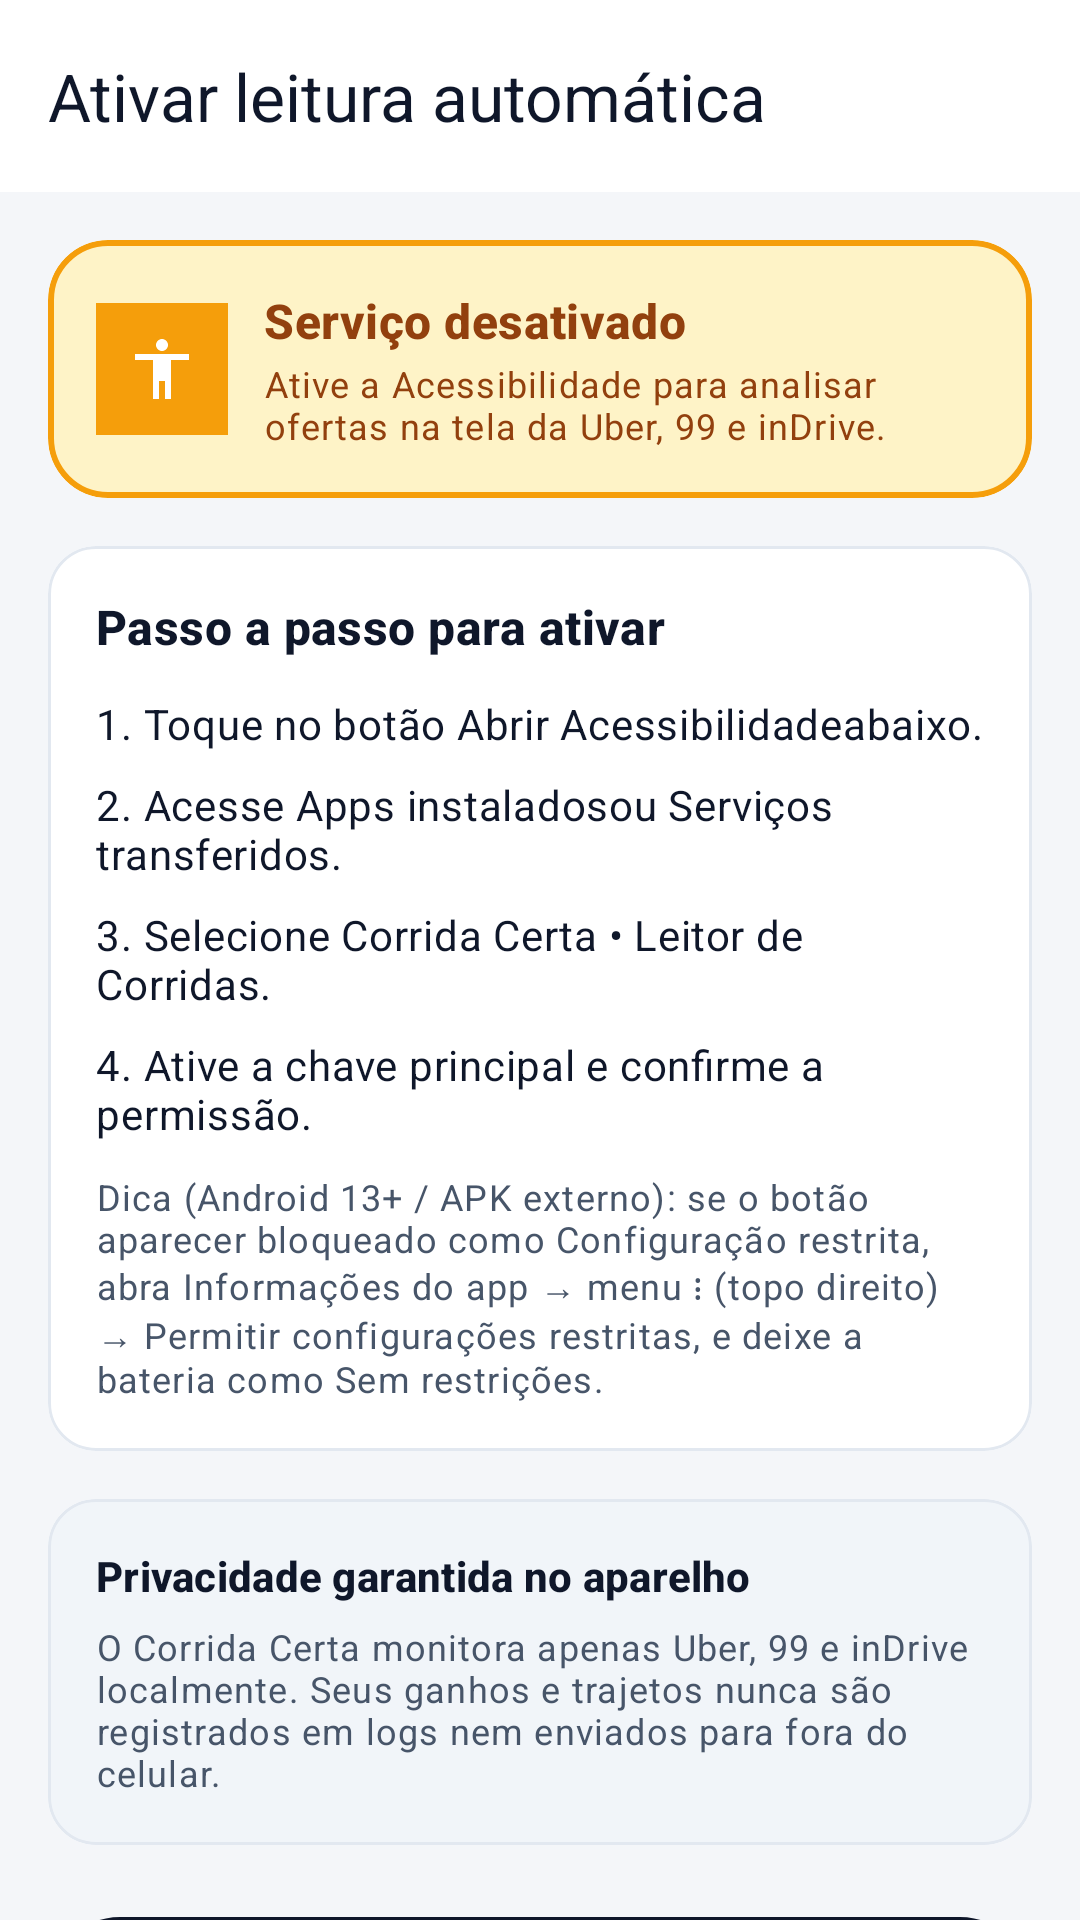

Named icons in this screenshot (1080 x 1920) and their centers, (x=x, y=y):
Ícone do serviço de acessibilidade: (x=162, y=369)
